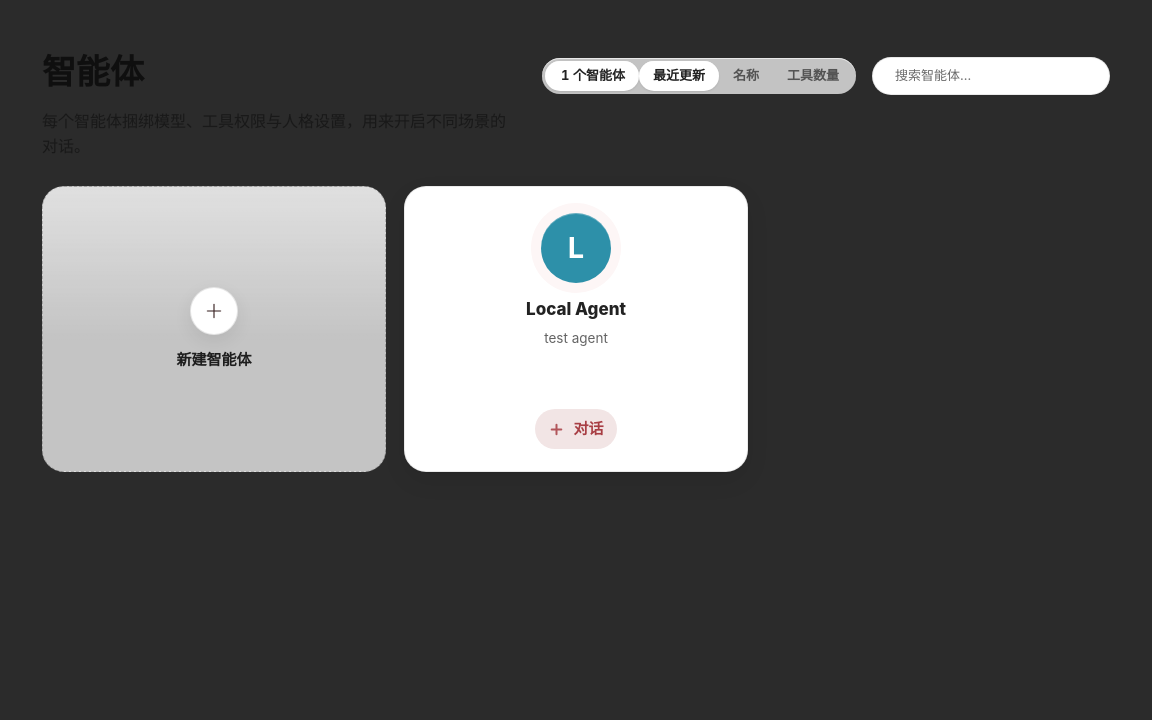
Test: AgentsPage — edit modal › Skills tab 自定义 mode adds + removes chip entries
Click the button "L Local Agent test agent" at (576, 298), box [405,187,747,409]
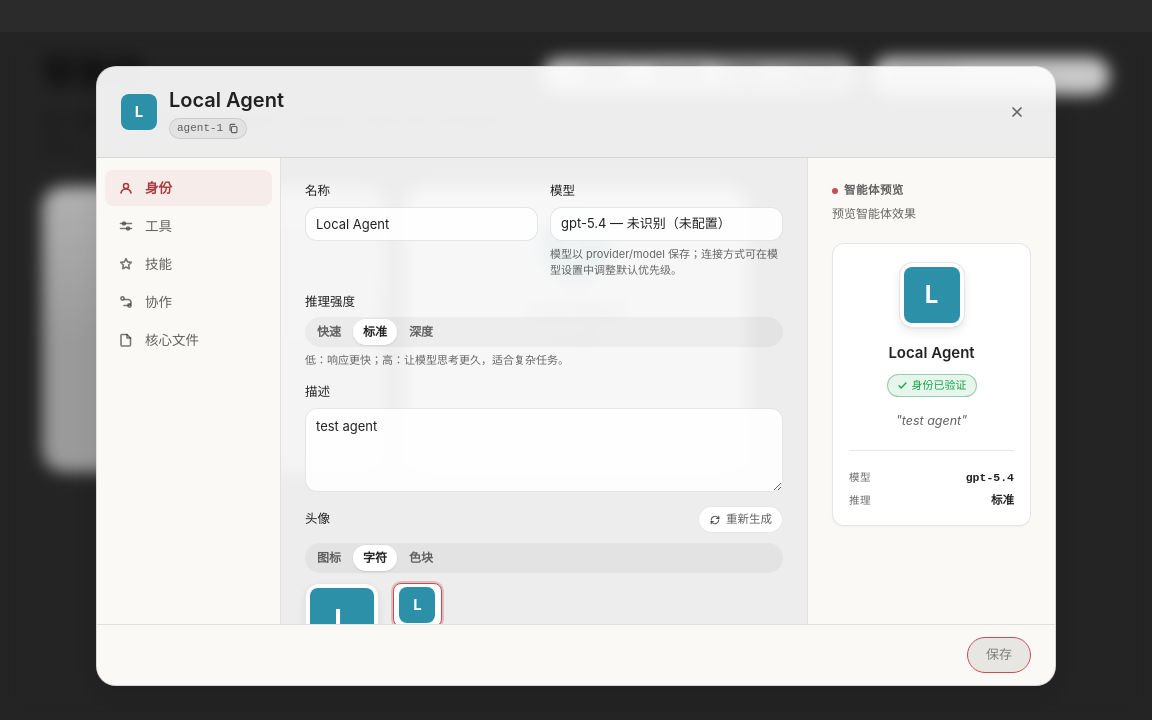
Click the tab "技能" at (188, 264), box [105,246,272,282]
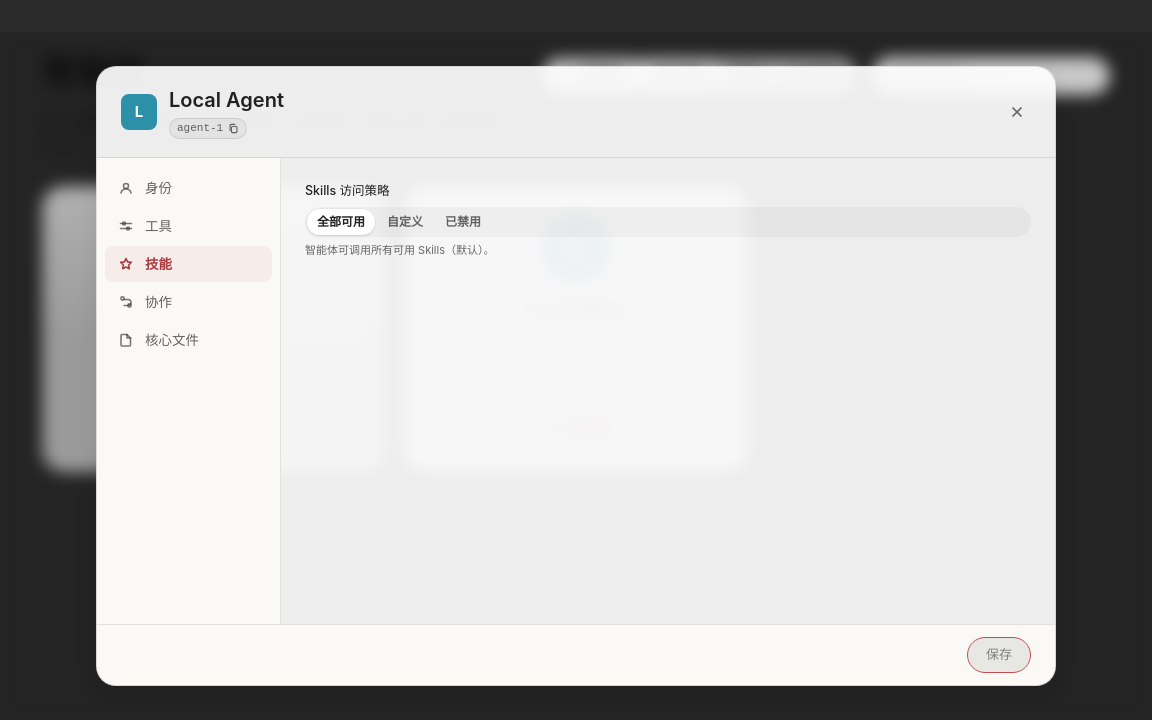
Click the radio button labelled "自定义" at (405, 222), box [377,209,433,235]
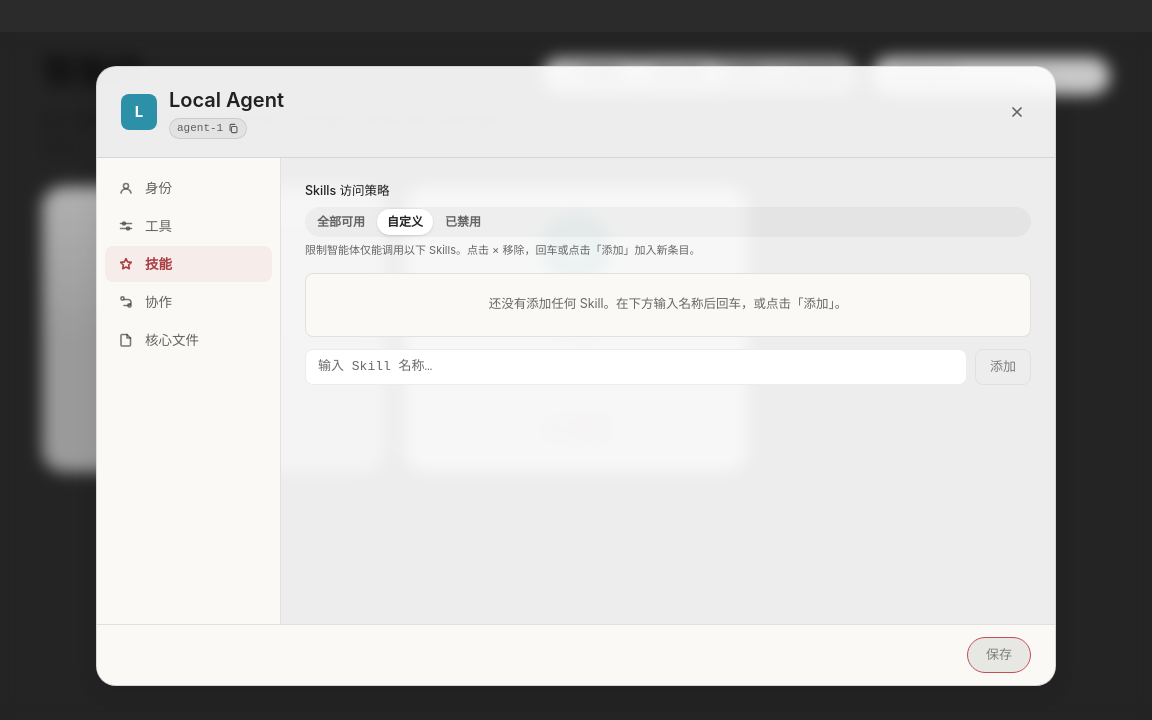
Type "alpha" into the field named "添加 Skill" at (636, 367), box [305,349,967,385]
Click the button "添加" at (1003, 367), box [975,349,1031,385]
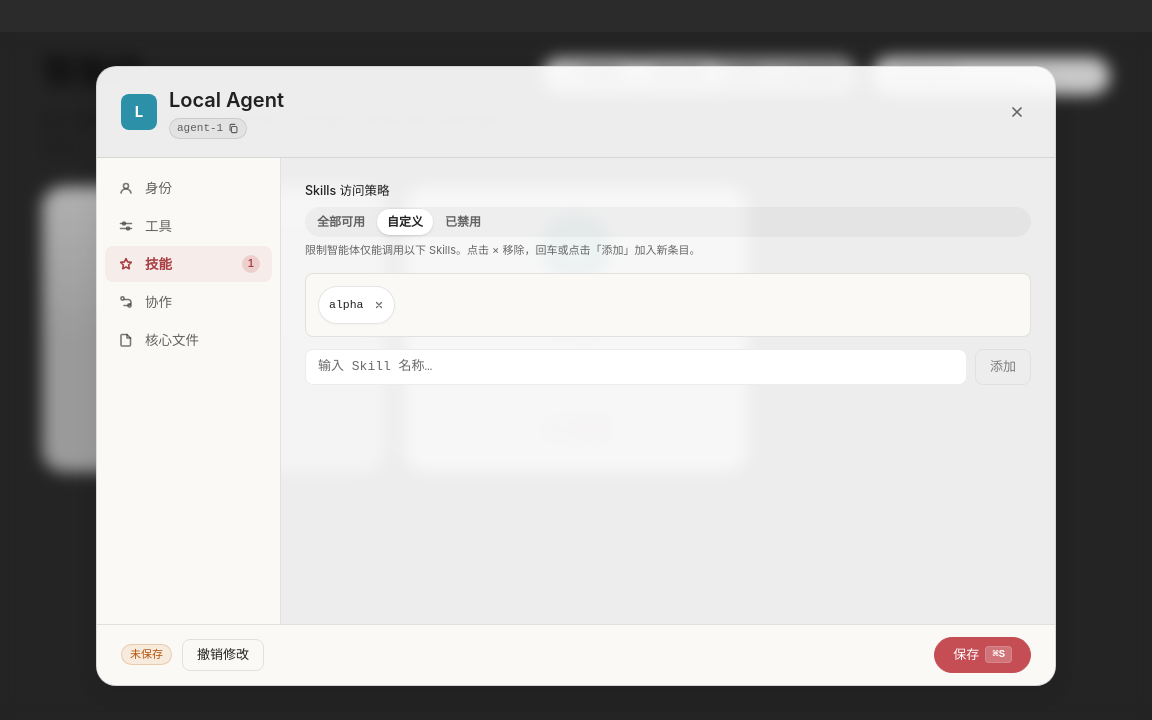
Type "beta" into the field named "添加 Skill" at (636, 367), box [305,349,967,385]
Click the button "添加" at (1003, 367), box [975,349,1031,385]
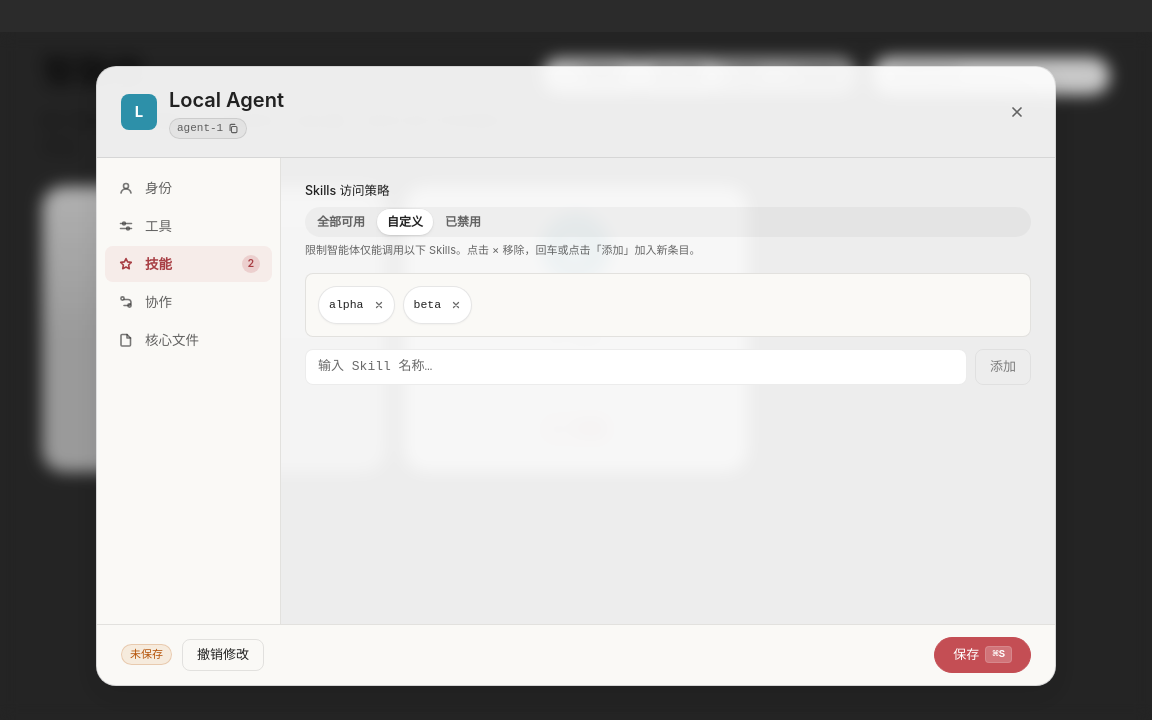
Now the number of list items with class "agent-skills-editor-chip" is 2, box [318,286,394,324]; [402,286,472,324]
Click the button named "移除 alpha" at (378, 305), box [368,294,390,316]
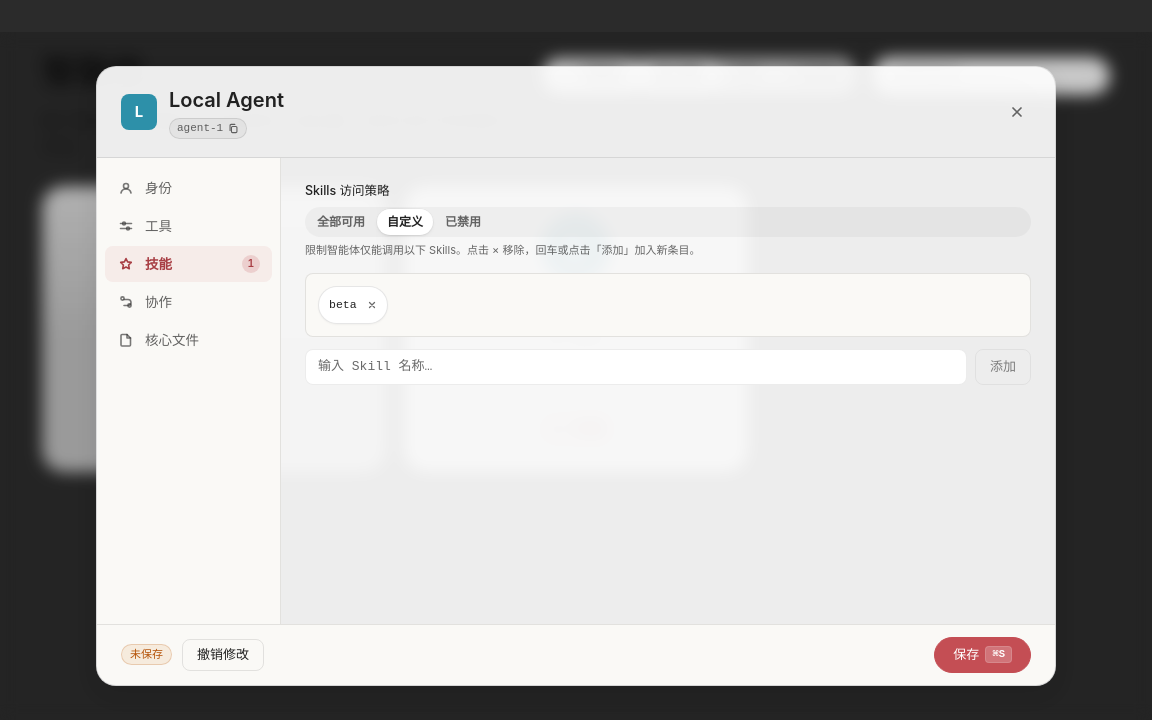
Now the number of list items with class "agent-skills-editor-chip" is 1, box [318,286,388,324]
